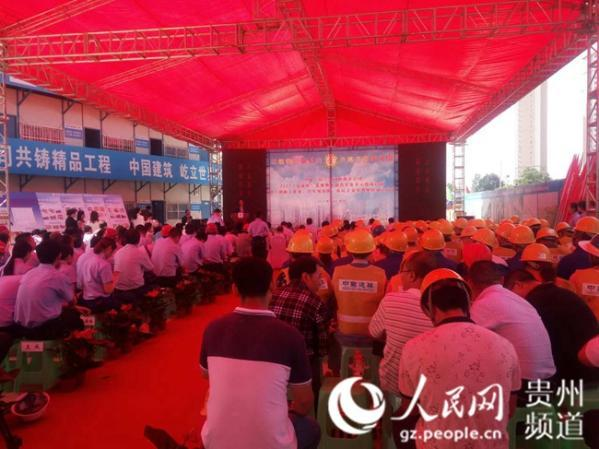helmet: (419, 269, 473, 304), (346, 228, 377, 256), (288, 233, 316, 254), (523, 243, 552, 263), (421, 228, 444, 252), (387, 232, 413, 253), (512, 226, 536, 245), (576, 217, 599, 234), (476, 230, 500, 246), (318, 237, 336, 255), (537, 228, 560, 242), (439, 220, 458, 235), (463, 224, 480, 239), (404, 229, 419, 244), (558, 220, 572, 234)
